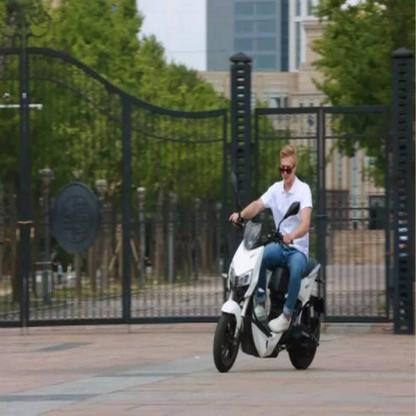target: (212, 142, 328, 375)
